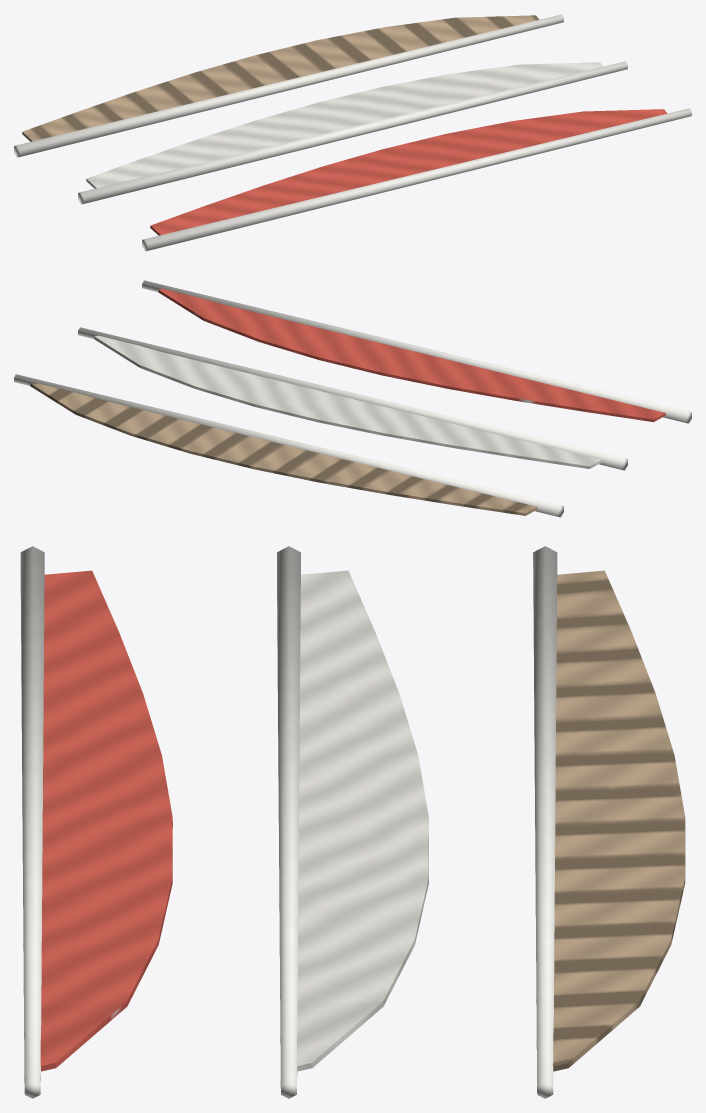
Rendered from FL_Fletching.fbx.
The picture shows the model from 3 angles, top to bottom: view 1: azimuth 30°, elevation 25°; view 2: azimuth 150°, elevation 25°; view 3: azimuth 270°, elevation 25°; orthographic projection. The views are drawn at different scales.
Visible parts, largest first — view 1: FL_Fletching; view 2: FL_Fletching; view 3: FL_Fletching.
Part boxes in pixels (bbox=[...]): FL_Fletching: bbox=[14, 14, 691, 251]; FL_Fletching: bbox=[14, 280, 691, 517]; FL_Fletching: bbox=[20, 546, 685, 1098].
Size of the model in its own units: 0.009 by 0.0002 by 0.00476.
